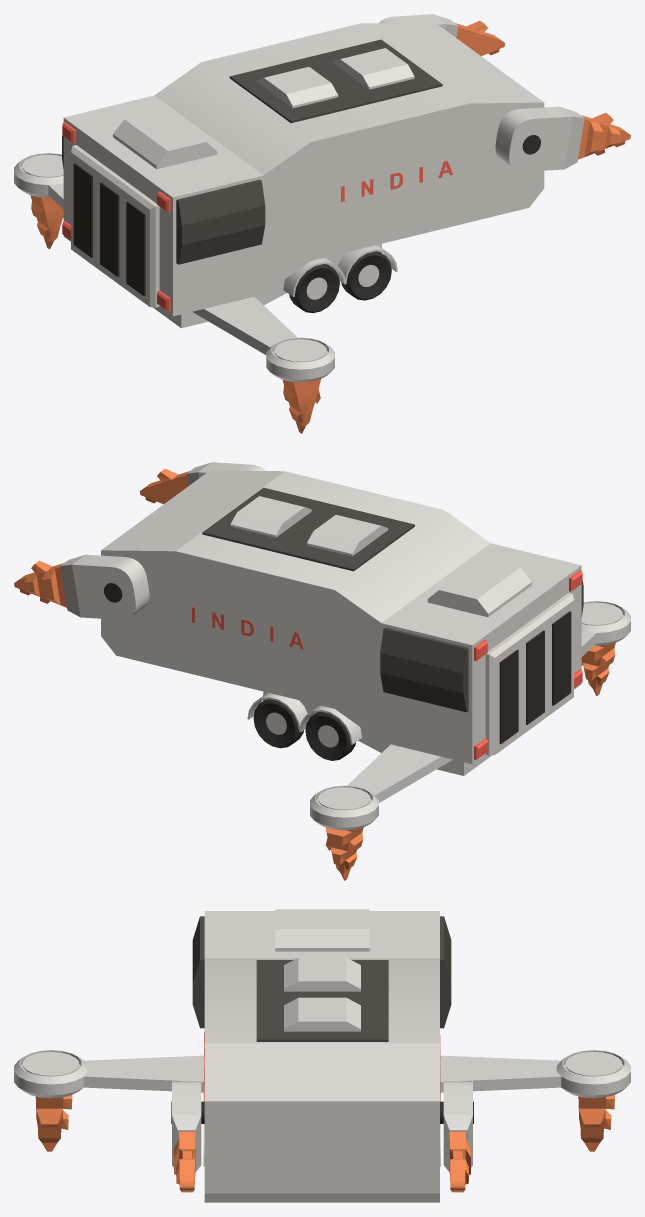
The model's file is 03 Space_bus_2.FBX.
The picture shows the model from 3 angles, top to bottom: view 1: azimuth 30°, elevation 25°; view 2: azimuth 150°, elevation 25°; view 3: azimuth 270°, elevation 25°; orthographic projection. The views are drawn at different scales.
Visible parts, largest first — view 1: Space_bus_2; view 2: Space_bus_2; view 3: Space_bus_2.
Part boxes in pixels (x1,y1,x2,y2): Space_bus_2: (14,14,630,433); Space_bus_2: (14,462,630,880); Space_bus_2: (14,909,630,1202).
Bounding box in the file's own units: 6018 × 2895 × 6554.
